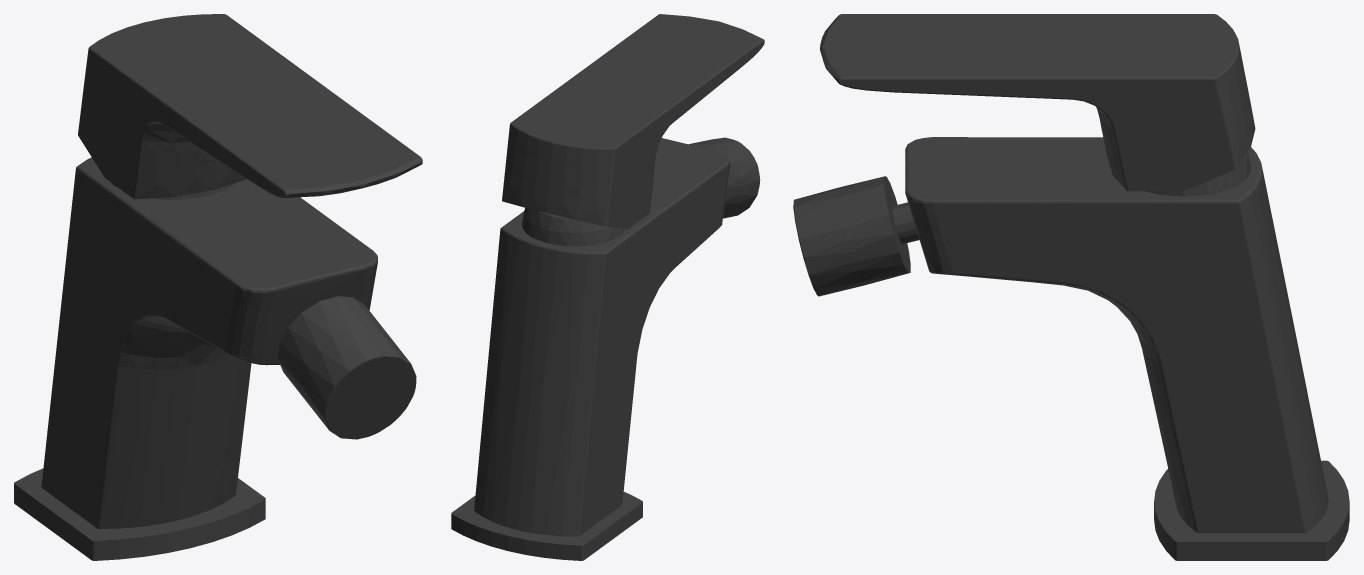
3 renders of one model, left to right at view 1: azimuth 30°, elevation 25°; view 2: azimuth 150°, elevation 25°; view 3: azimuth 270°, elevation 25°, orthographic. The views are drawn at different scales.
Parts seen in each view (by area): view 1: NS_43011.obj_1; view 2: NS_43011.obj_1; view 3: NS_43011.obj_1.
Part boxes in pixels (x1,y1,x2,y2): NS_43011.obj_1: (14, 14, 422, 560); NS_43011.obj_1: (451, 14, 764, 560); NS_43011.obj_1: (793, 14, 1349, 560).
Bounding box in the file's own units: 0.0446 × 0.1212 × 0.1289.
1 material, 1 textured.
